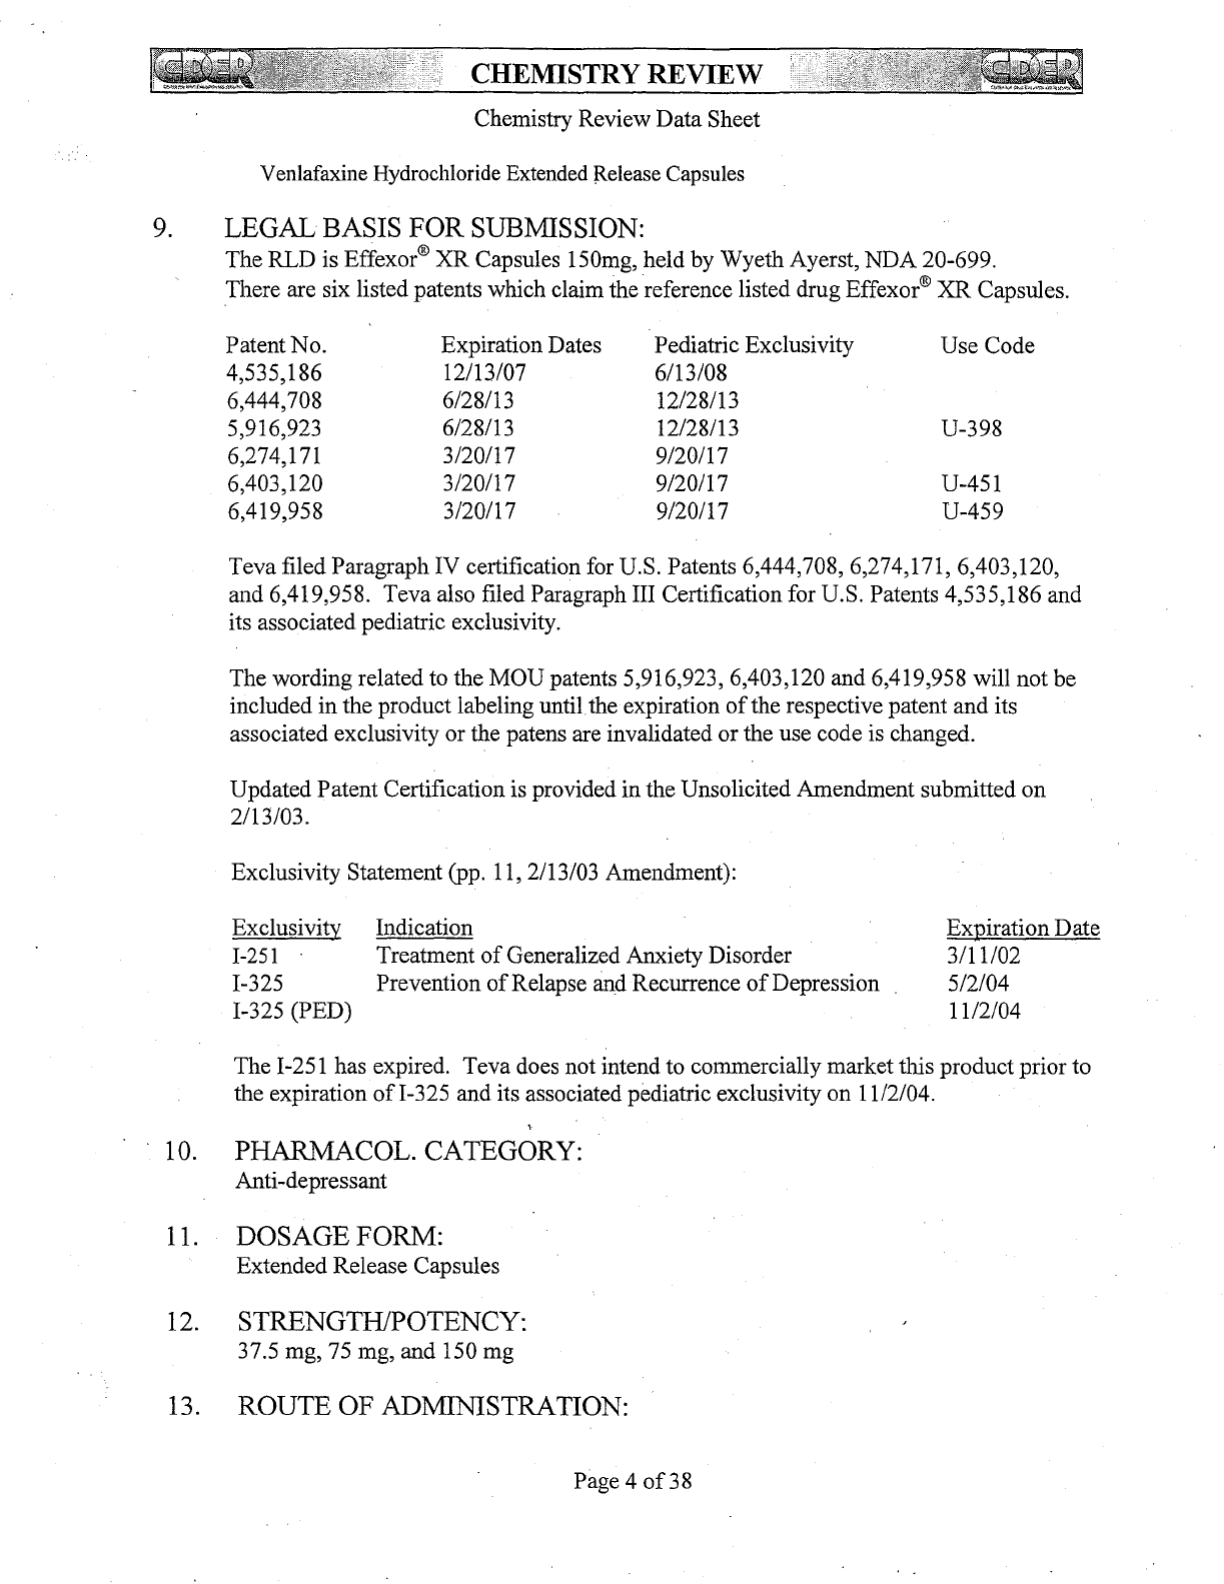nolines: (221, 330, 1032, 521), (161, 1131, 627, 1421), (229, 914, 1103, 1021)
